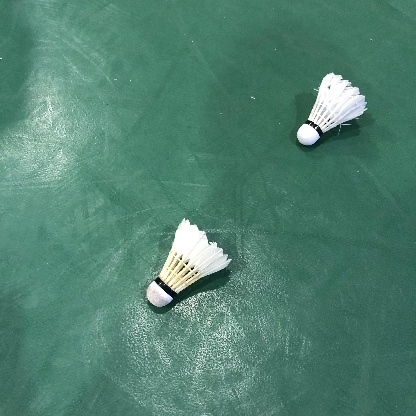ball_single: (147, 218, 232, 307), (297, 72, 367, 145)
